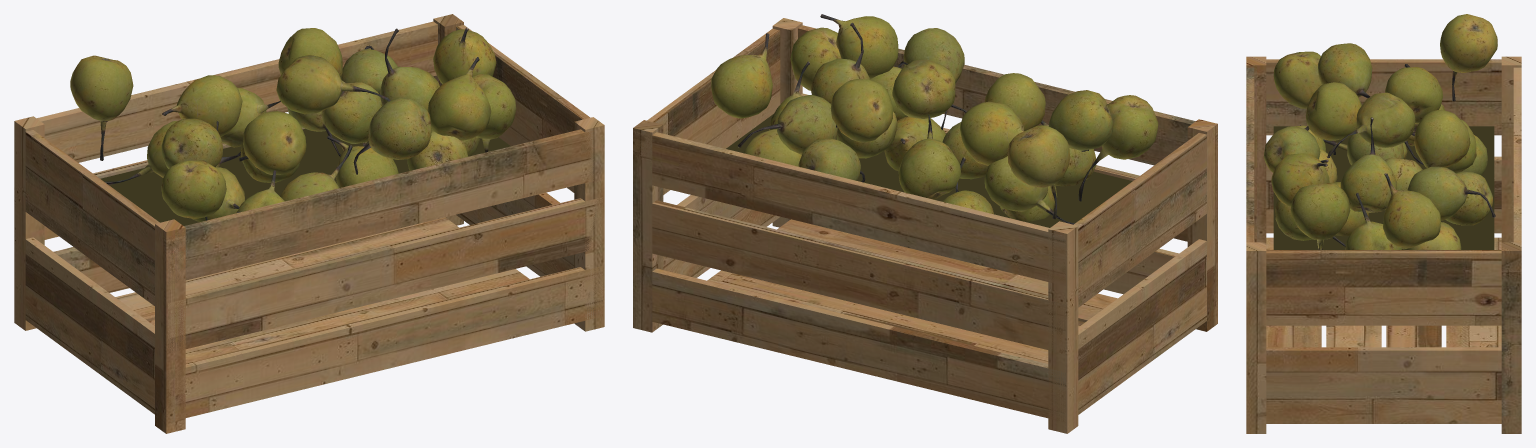
The model's file is skrzynka_gruszki.glb.
3 renders of one model, left to right at view 1: azimuth 30°, elevation 25°; view 2: azimuth 150°, elevation 25°; view 3: azimuth 270°, elevation 25°, orthographic. The views are drawn at different scales.
Visible parts, largest first — view 1: skrzynka, gruszki, dno; view 2: skrzynka, gruszki, dno; view 3: skrzynka, gruszki, dno.
Part boxes in pixels (box(x1,y1,x2,y2)): skrzynka: box(14, 14, 604, 433); gruszki: box(70, 27, 516, 221); dno: box(100, 128, 510, 225); skrzynka: box(633, 18, 1217, 433); gruszki: box(711, 14, 1158, 224); dno: box(726, 114, 1132, 227); skrzynka: box(1246, 56, 1521, 433); gruszki: box(1263, 14, 1497, 249); dno: box(1273, 126, 1494, 249).
Size of the model in its own units: 0.5 by 0.3064 by 0.3.
3 materials, 3 textured.
